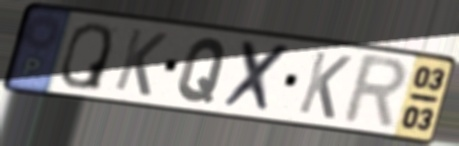K: (111, 25, 171, 99), (295, 48, 355, 122)
Q: (57, 20, 115, 93), (174, 36, 230, 106)
R: (337, 52, 411, 133)
X: (220, 37, 295, 116)
